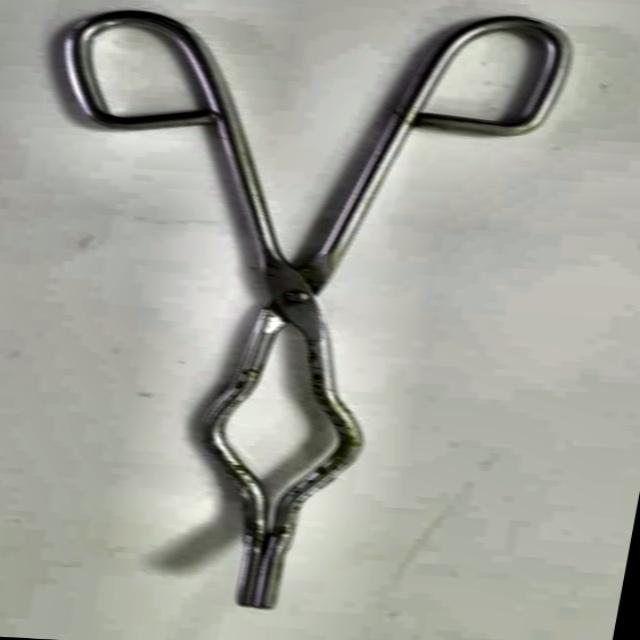Tongue: (0, 0, 603, 639)
